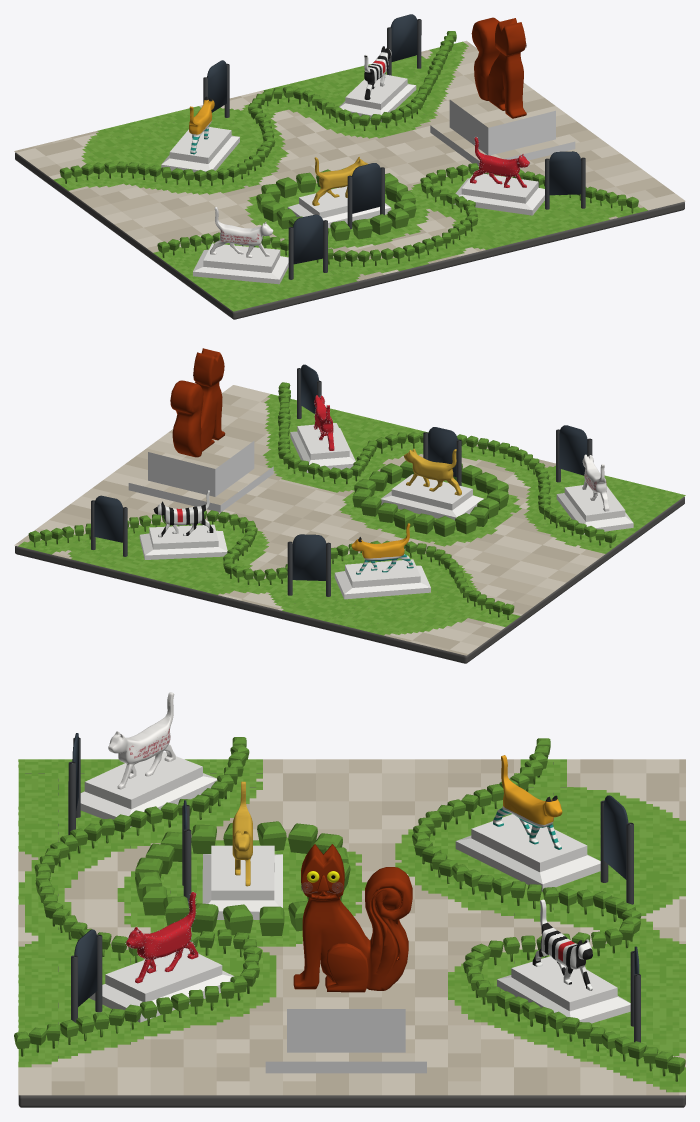
File: lugar_gato-de-tejada.glb
3 renders of one model, top to bottom at view 1: azimuth 30°, elevation 25°; view 2: azimuth 150°, elevation 25°; view 3: azimuth 270°, elevation 25°, orthographic. The views are drawn at different scales.
Visible parts, largest first — view 1: suelo_pasto_y_camino, Cubo.007, Cubo, Cube, Plano.005, Cube.007, Cilindro.008, Cubo.001, Cubo.013, Cubo.004, Cubo.011; view 2: suelo_pasto_y_camino, Cubo.007, Cubo, Cube, Cube.007, Plano.005, Cilindro.008, Cubo.001, Cubo.004, Cubo.011, Cubo.013; view 3: suelo_pasto_y_camino, Cubo.007, Cubo, Cube, Cube.007, Cilindro.008, Cubo.001, Plano.005, Cubo.013, Cubo.004, Cubo.011.
Part boxes in pixels (x1=…): suelo_pasto_y_camino: x1=14, y1=40, x2=685, y2=311; Cubo.007: x1=59, y1=31, x2=638, y2=266; Cubo: x1=161, y1=74, x2=544, y2=284; Cube: x1=430, y1=17, x2=575, y2=165; Plano.005: x1=207, y1=14, x2=581, y2=264; Cube.007: x1=15, y1=152, x2=684, y2=319; Cilindro.008: x1=203, y1=19, x2=585, y2=279; Cubo.001: x1=312, y1=137, x2=529, y2=205; Cubo.013: x1=210, y1=207, x2=273, y2=257; Cubo.004: x1=189, y1=96, x2=214, y2=154; Cubo.011: x1=364, y1=46, x2=391, y2=99; suelo_pasto_y_camino: x1=14, y1=385, x2=685, y2=655; Cubo.007: x1=28, y1=382, x2=616, y2=619; Cubo: x1=139, y1=423, x2=633, y2=599; Cube: x1=128, y1=348, x2=273, y2=512; Cube.007: x1=15, y1=496, x2=684, y2=663; Plano.005: x1=94, y1=364, x2=587, y2=580; Cilindro.008: x1=91, y1=368, x2=592, y2=596; Cubo.001: x1=314, y1=395, x2=461, y2=495; Cubo.004: x1=351, y1=523, x2=413, y2=574; Cubo.011: x1=153, y1=490, x2=213, y2=537; Cubo.013: x1=582, y1=454, x2=609, y2=511; suelo_pasto_y_camino: x1=18, y1=759, x2=685, y2=1095; Cubo.007: x1=14, y1=737, x2=685, y2=1081; Cubo: x1=80, y1=751, x2=630, y2=1023; Cube: x1=265, y1=844, x2=426, y2=1073; Cube.007: x1=18, y1=762, x2=685, y2=1107; Cilindro.008: x1=68, y1=737, x2=640, y2=1042; Cubo.001: x1=126, y1=781, x2=252, y2=983; Plano.005: x1=72, y1=733, x2=639, y2=1006; Cubo.013: x1=108, y1=692, x2=175, y2=789; Cubo.004: x1=493, y1=755, x2=562, y2=849; Cubo.011: x1=532, y1=899, x2=592, y2=990.
Size of the model in its own units: 14.53 by 4.09 by 12.25.
Materials: 21 (3 with a texture image).
